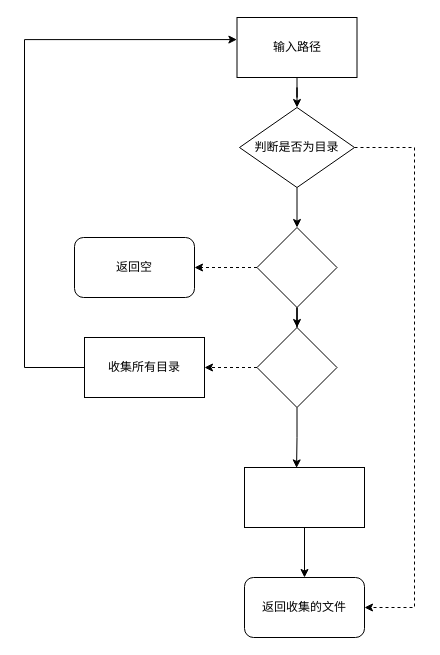
Image size: 440x655. Some labels were removed from this diagram. The box of each missing label's shape, as (x1, y1, x2, y2) in pixels:
判断是否只包含文件: (256, 326, 337, 408)
判断目录是否同时包含目录和文件: (256, 226, 337, 308)
获取当前目录所有文件: (244, 466, 364, 528)
